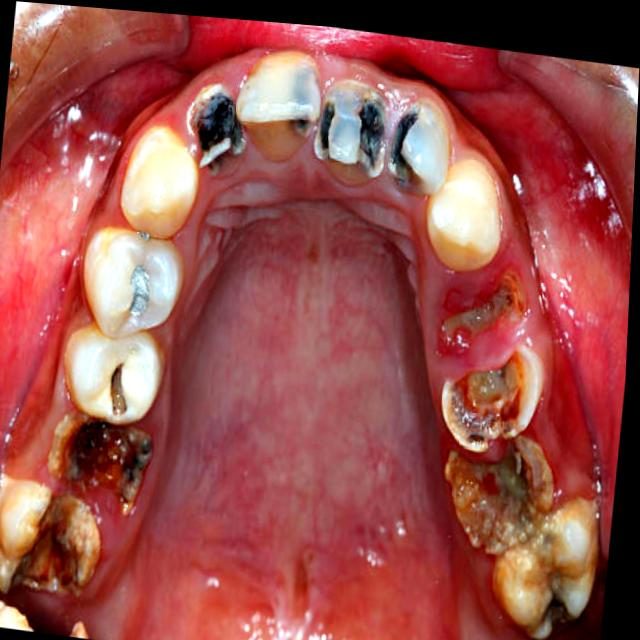cariess: (445, 438, 554, 554), (314, 80, 418, 185), (442, 349, 542, 452), (58, 422, 152, 515), (9, 497, 99, 590), (273, 64, 321, 157), (189, 92, 244, 166), (528, 597, 587, 640)
